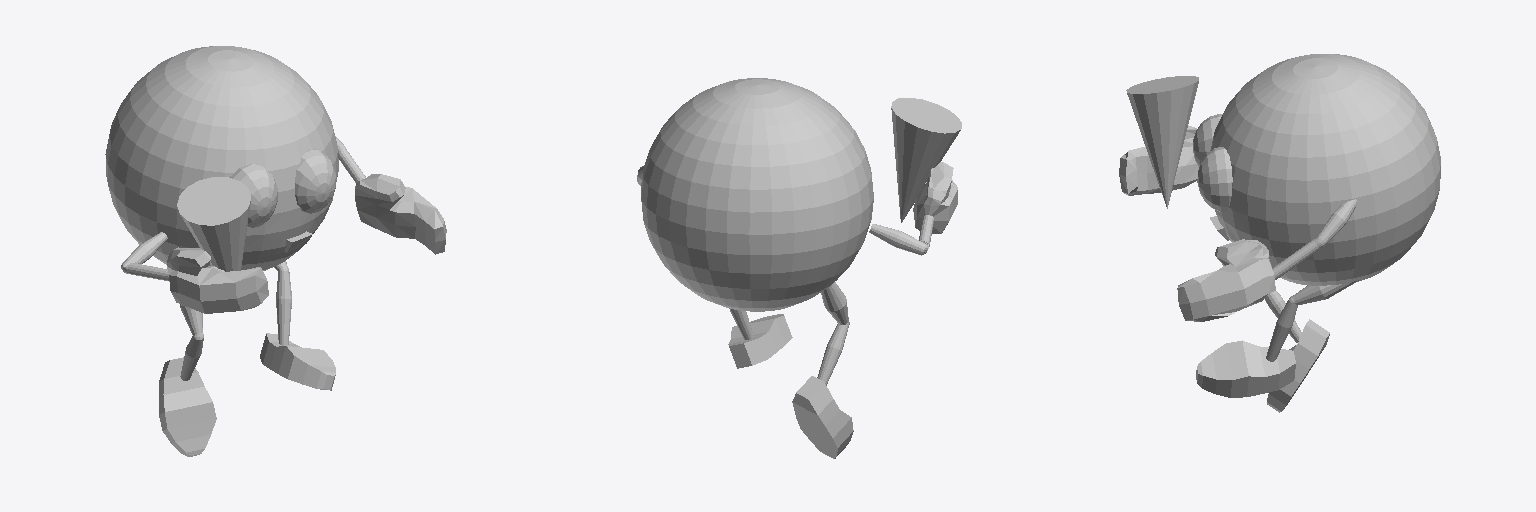
Rendered from jump_000004.obj.
3 views of the same model, side by side, from view 1: azimuth 30°, elevation 25°; view 2: azimuth 150°, elevation 25°; view 3: azimuth 270°, elevation 25° (orthographic).
Visible parts, largest first — view 1: Rusko_Sphere; view 2: Rusko_Sphere; view 3: Rusko_Sphere.
Boxes of the visible parts, x1=… form: Rusko_Sphere: x1=105, y1=46, x2=446, y2=456; Rusko_Sphere: x1=637, y1=78, x2=961, y2=458; Rusko_Sphere: x1=1119, y1=54, x2=1440, y2=412.
Size of the model in its own units: 5.81 by 7.01 by 5.5.